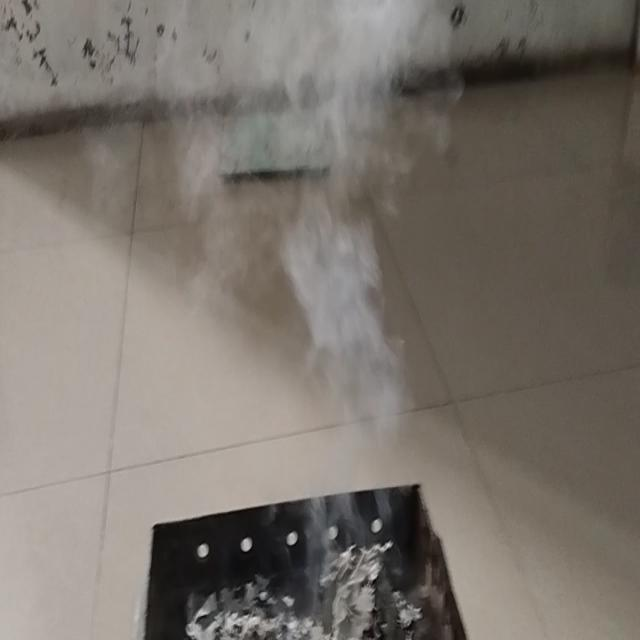fire: (157, 0, 459, 221), (277, 200, 409, 577)
